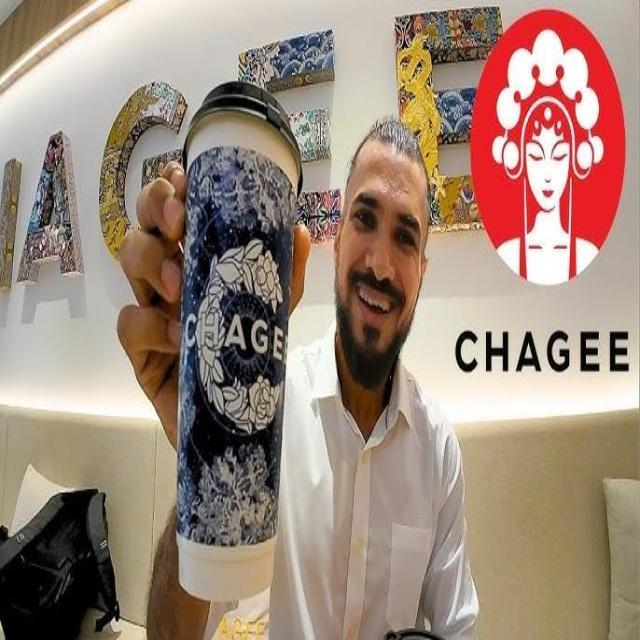paper_cup: (176, 77, 306, 610)
